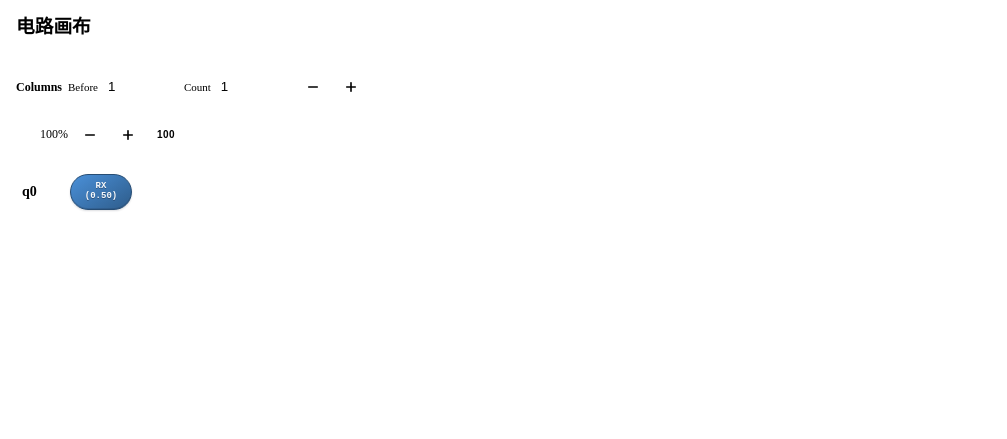
Test case: CircuitCanvas › blocks non-finite parameter input and keeps previous value
Click the element with test id "canvas-cell-0-0": {"x": 101, "y": 192} [70,174,132,210]
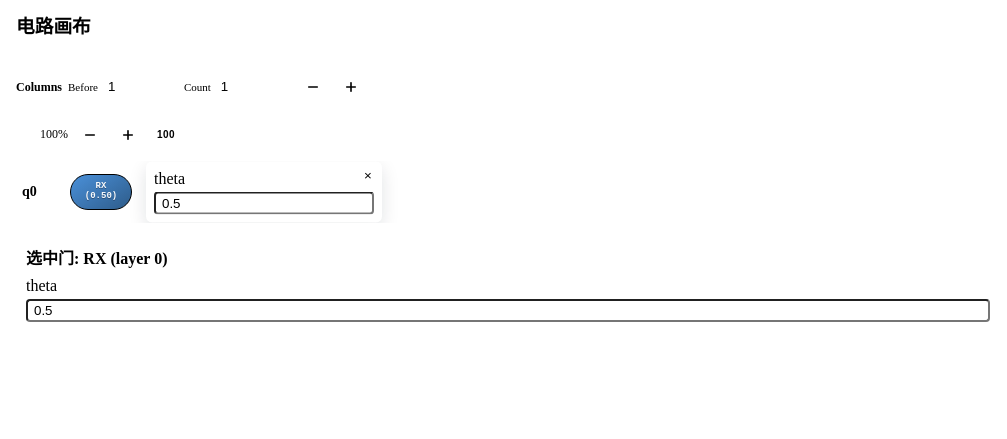
Clear the number field named "param-theta": {"x": 264, "y": 203} [154,191,374,214]
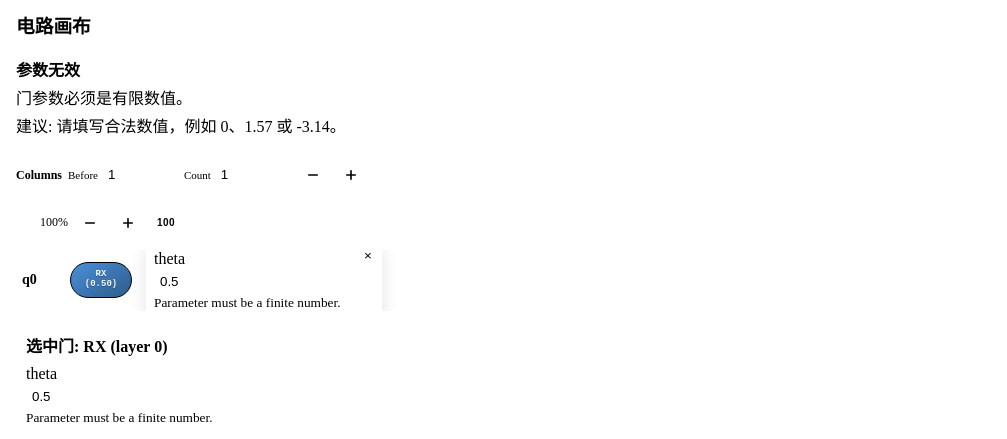
Expected: the text with test id "param-error-0" below "(0.50)" is shown, [154,294,340,309]
